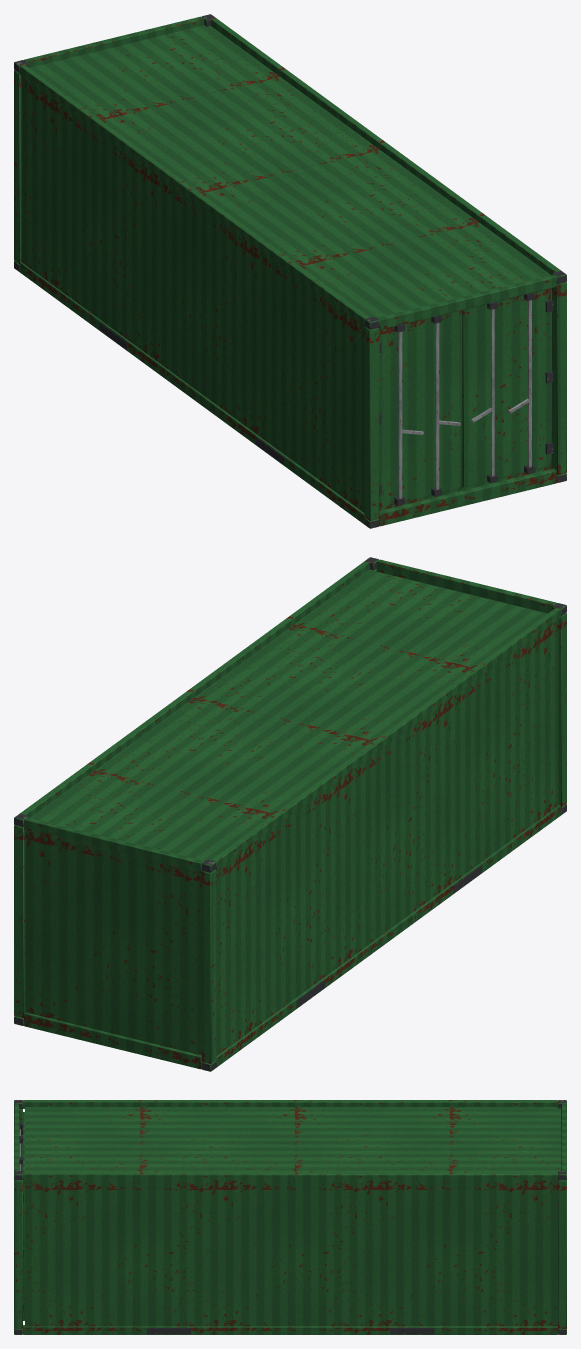
File: container_green.glb
3 views of the same model, one above another, from view 1: azimuth 30°, elevation 25°; view 2: azimuth 150°, elevation 25°; view 3: azimuth 270°, elevation 25° (orthographic). The views are drawn at different scales.
Visible parts, largest first — view 1: container; view 2: container; view 3: container.
Part boxes in pixels (<box>): container: <box>14,14,566,528</box>; container: <box>14,557,566,1071</box>; container: <box>14,1100,566,1334</box>.
Size of the model in its own units: 3.21 by 3.2 by 10.
Materials: 3 (3 with a texture image).
